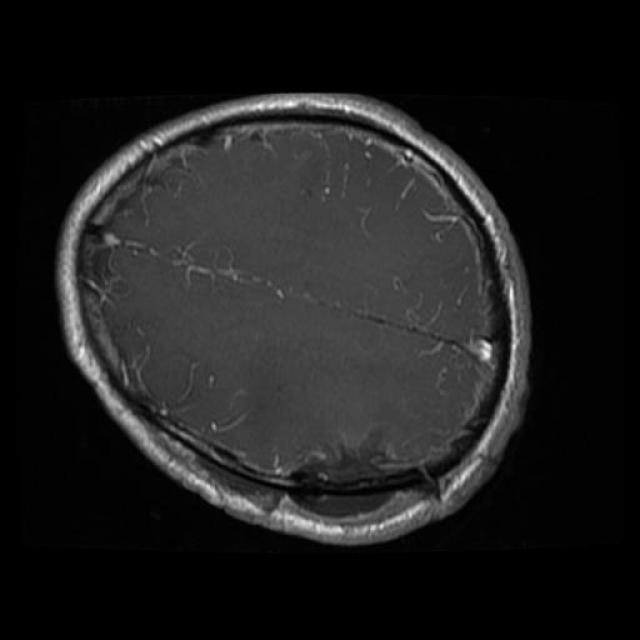Glioma: (287, 426, 414, 489)
